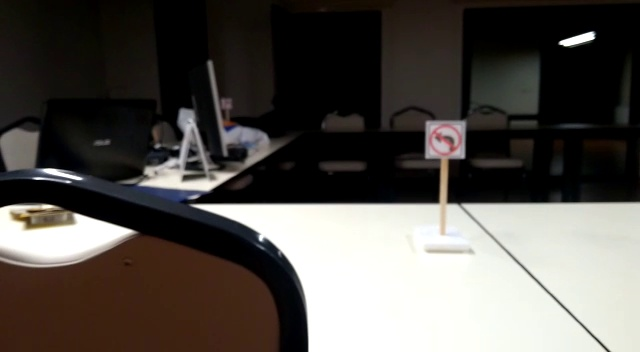sola_donulmez: (425, 120, 467, 159)
